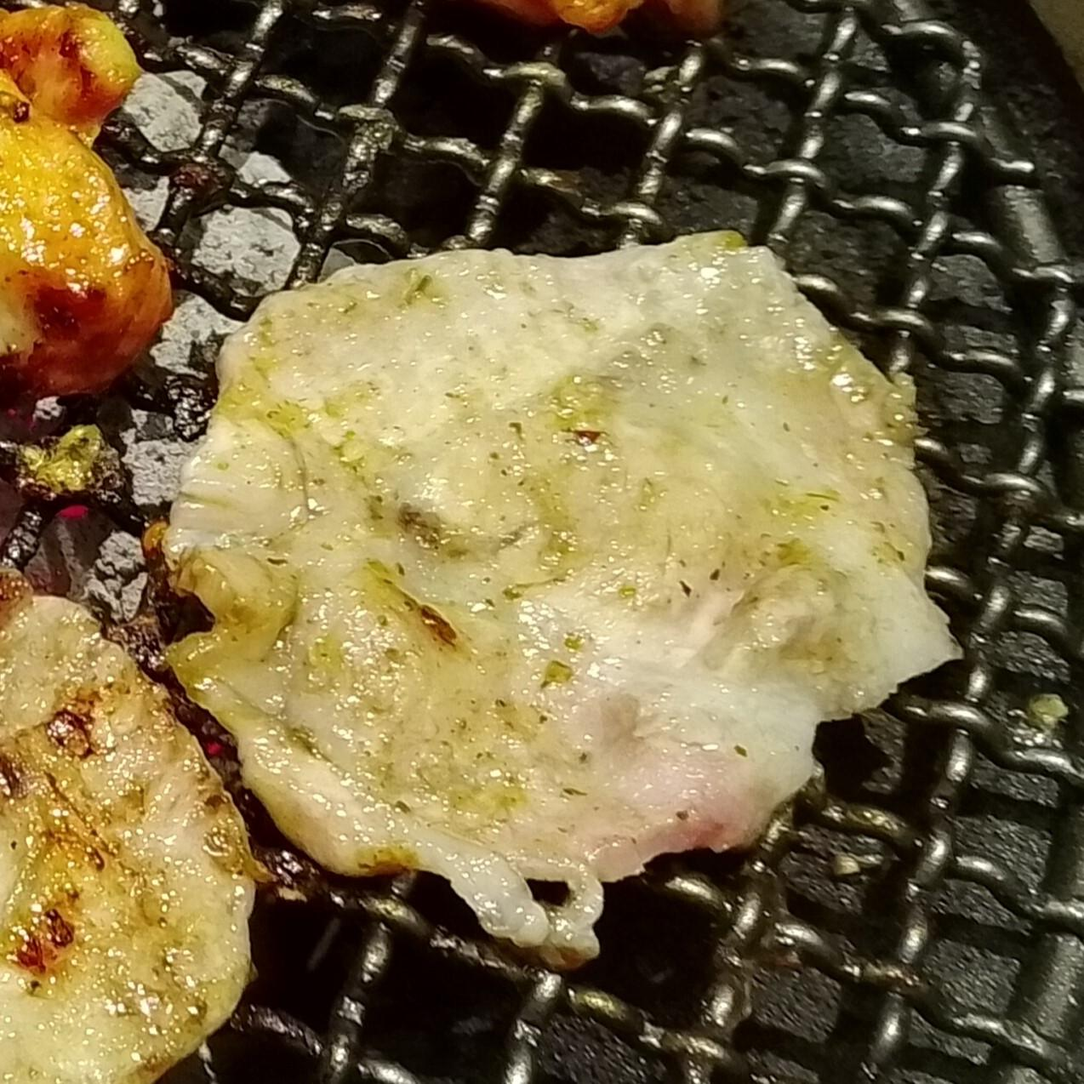Overcooked: (0, 581, 265, 1083)
Undercooked: (162, 238, 956, 975)
Well-Cooked: (0, 5, 176, 389)
